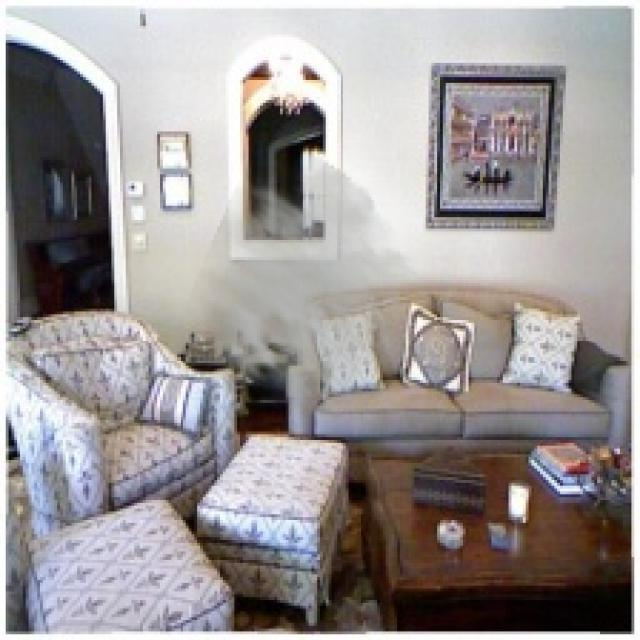Smoke: (171, 146, 420, 428)
